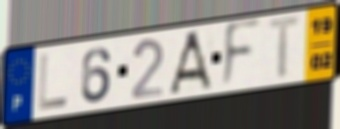2: (130, 36, 166, 101)
6: (80, 46, 113, 104)
A: (167, 28, 215, 96)
F: (219, 16, 263, 93)
L: (36, 51, 71, 113)
T: (265, 13, 305, 83)
